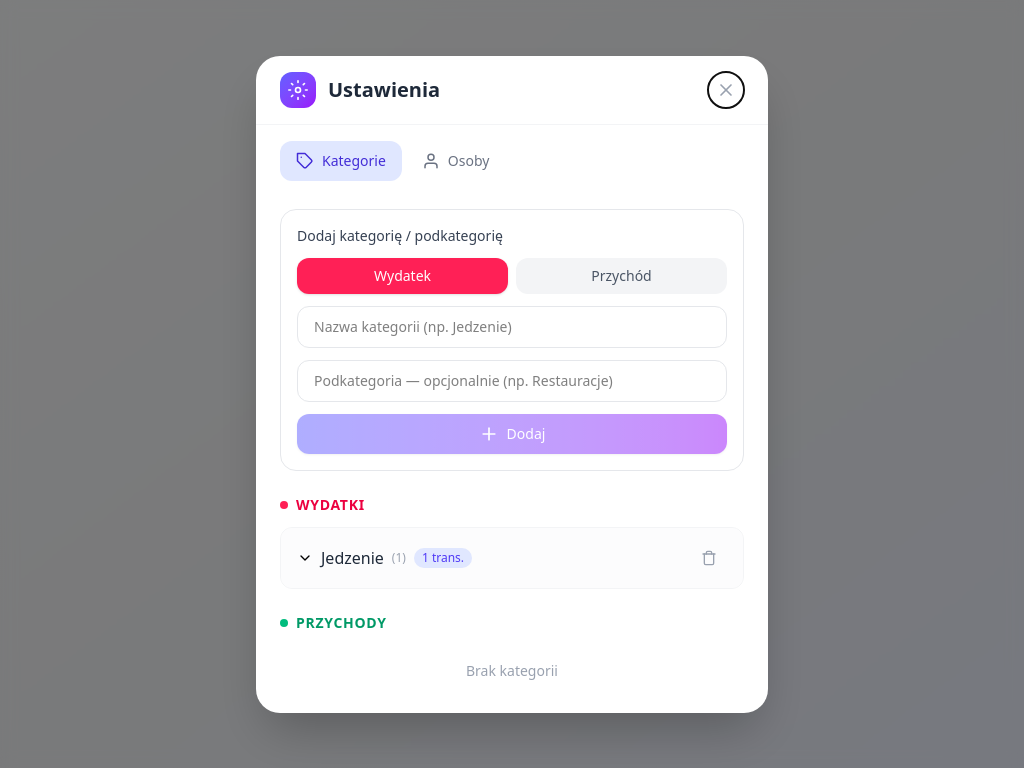
Test: SettingsPanel › usunięcie kategorii w użyciu: ostrzeżenie z liczbą transakcji, po potwierdzeniu API
The image size is (1024, 768).
Click the button named "Usuń kategorię Jedzenie". click: coordinates (709, 558)
box: [691,540,727,576]
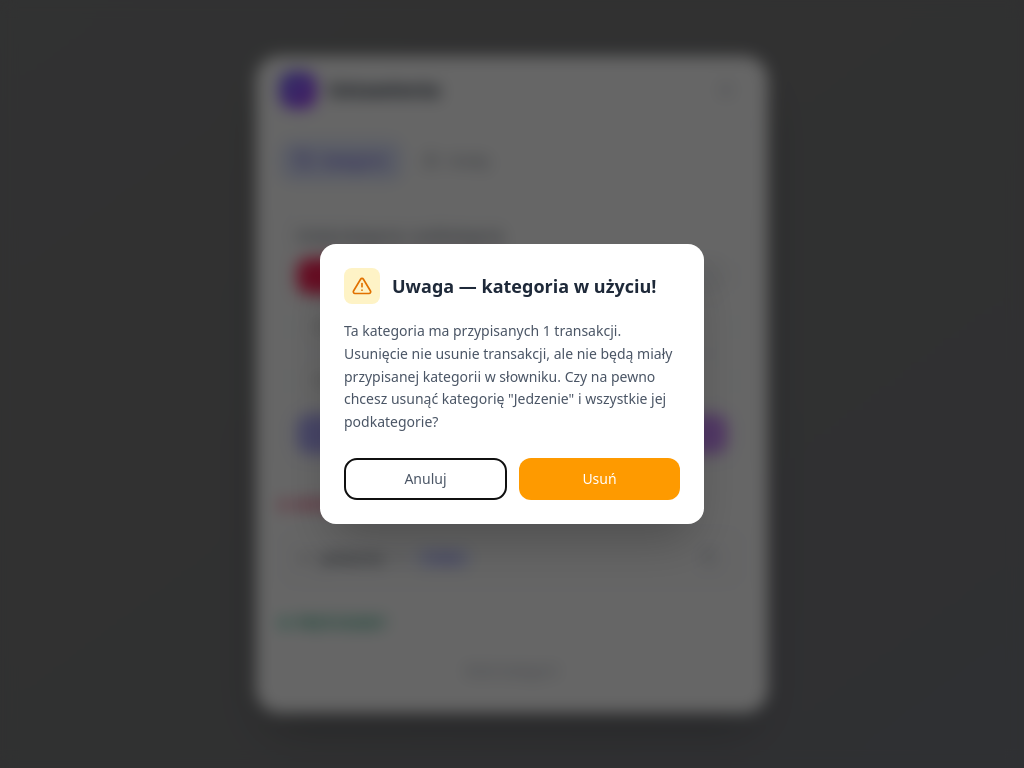
Now the heading "Uwaga — kategoria w użyciu!" is shown, box [392,272,656,300]
Now the text "ma przypisanych 1 transakcji" is shown, box [344,321,672,431]
Click the button "Usuń". click: coordinates (600, 479)
box: [519,458,680,500]
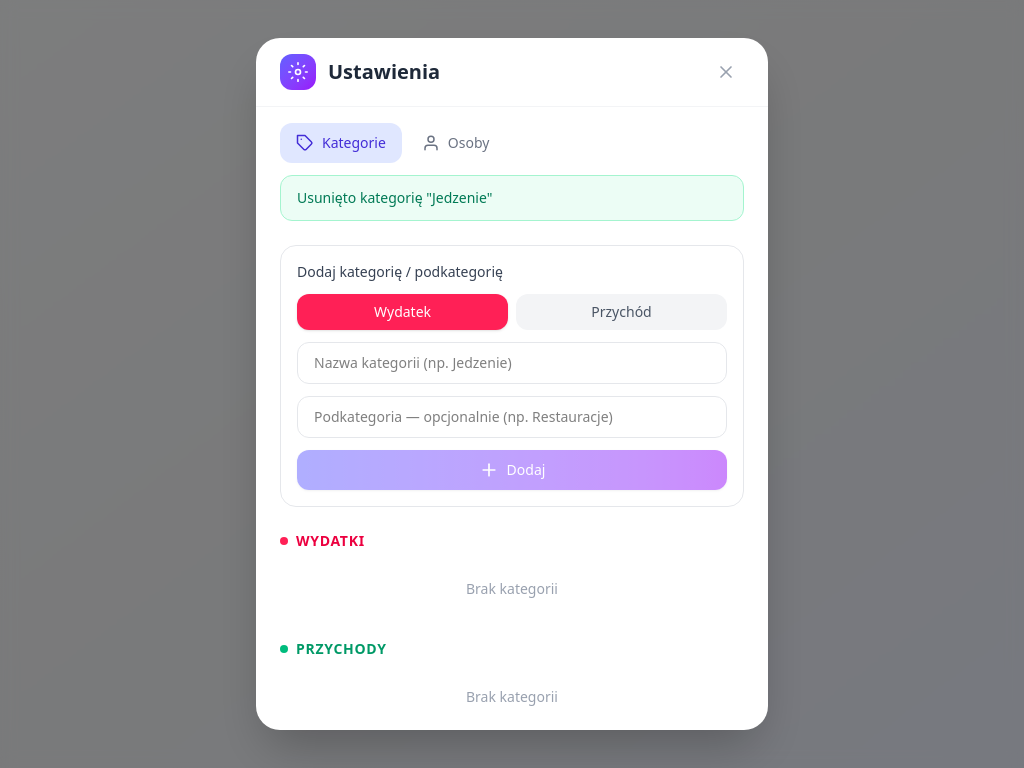
Now the heading "Uwaga — kategoria w użyciu!" is gone
Now the text "Usunięto kategorię \"Jedzenie\"" is shown, box [280,175,744,221]
